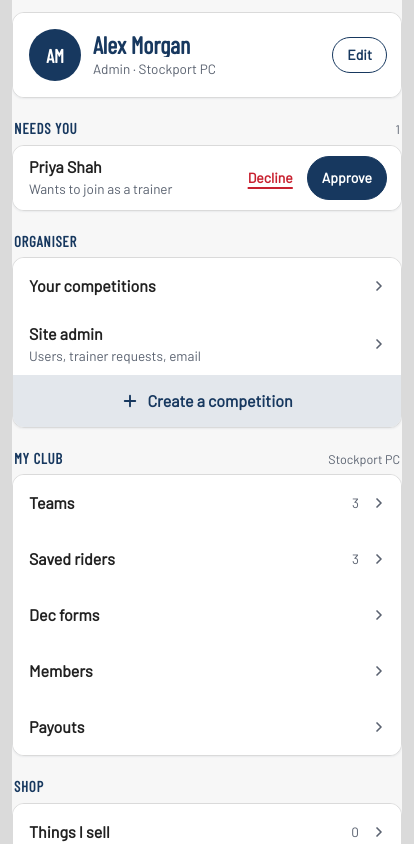
ProfilePage: needs you › declines a request after asking, and the section goes with the last row
Click the button with aria-label "Decline Priya Shah" at (270,178), box [242, 156, 299, 200]
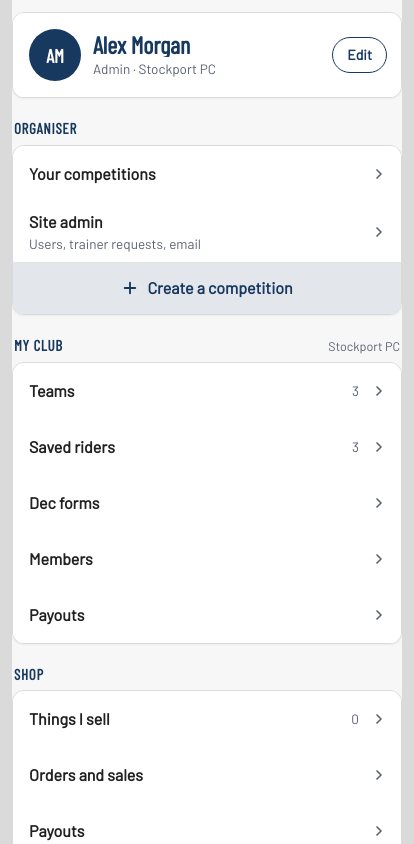
Result: the heading "Needs you" is gone
